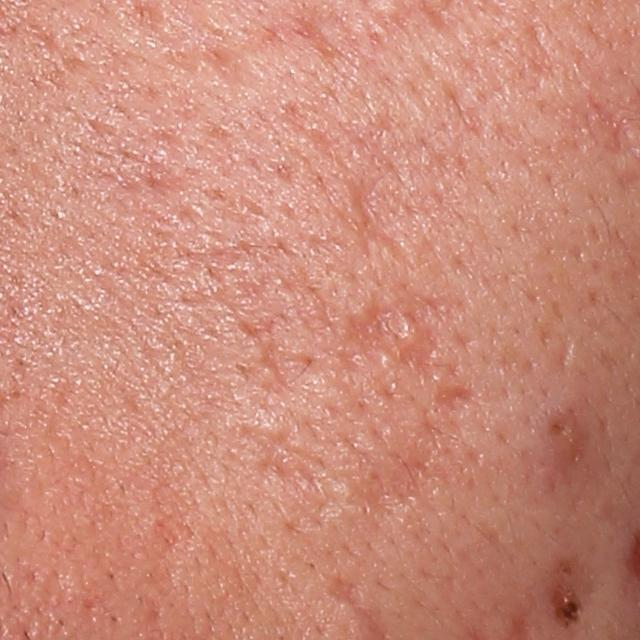atrophic_scar: (235, 424, 336, 498), (349, 439, 448, 512), (349, 176, 414, 268), (237, 318, 290, 406), (320, 566, 383, 635), (392, 315, 443, 380), (284, 15, 346, 64), (203, 42, 259, 89), (406, 285, 472, 324), (535, 313, 574, 371), (345, 301, 390, 348), (428, 381, 475, 413)
nevus: (554, 595, 585, 626)
